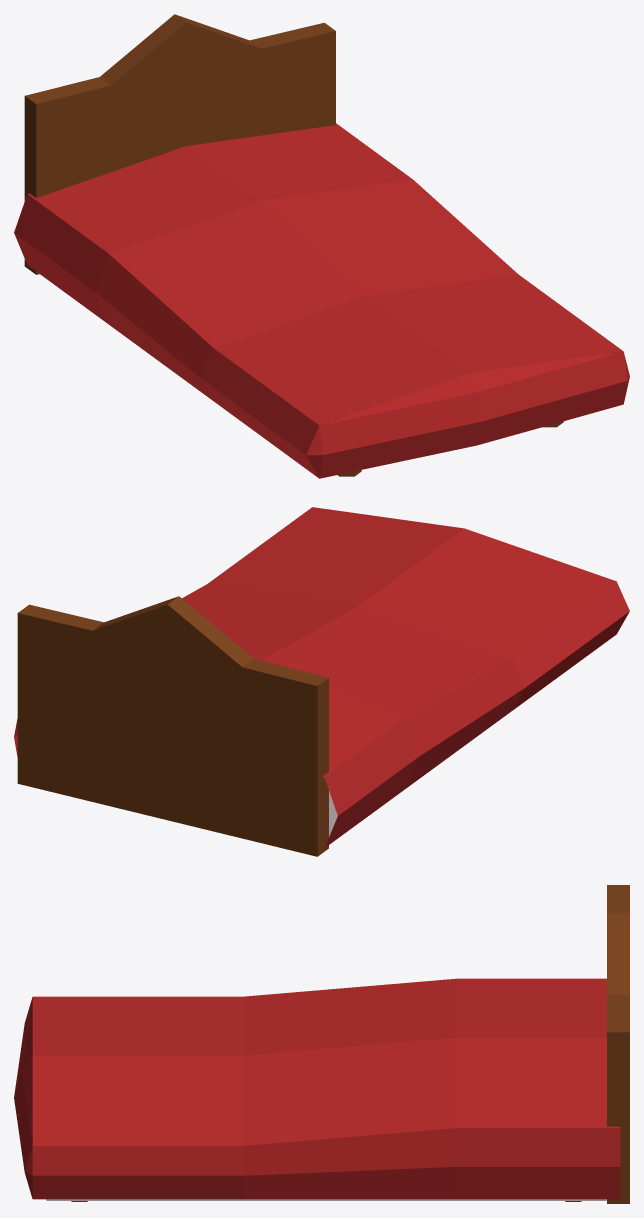
Rendered from Bed.fbx.
The picture shows the model from 3 angles, top to bottom: view 1: azimuth 30°, elevation 25°; view 2: azimuth 150°, elevation 25°; view 3: azimuth 270°, elevation 25°; orthographic projection.
Visible parts, largest first — view 1: Cube; view 2: Cube; view 3: Cube.
Part boxes in pixels (x1,y1,x2,y2): Cube: [14, 14, 629, 478]; Cube: [14, 507, 629, 856]; Cube: [14, 885, 629, 1203].
Bounding box in the file's own units: 135 × 92.37 × 221.
